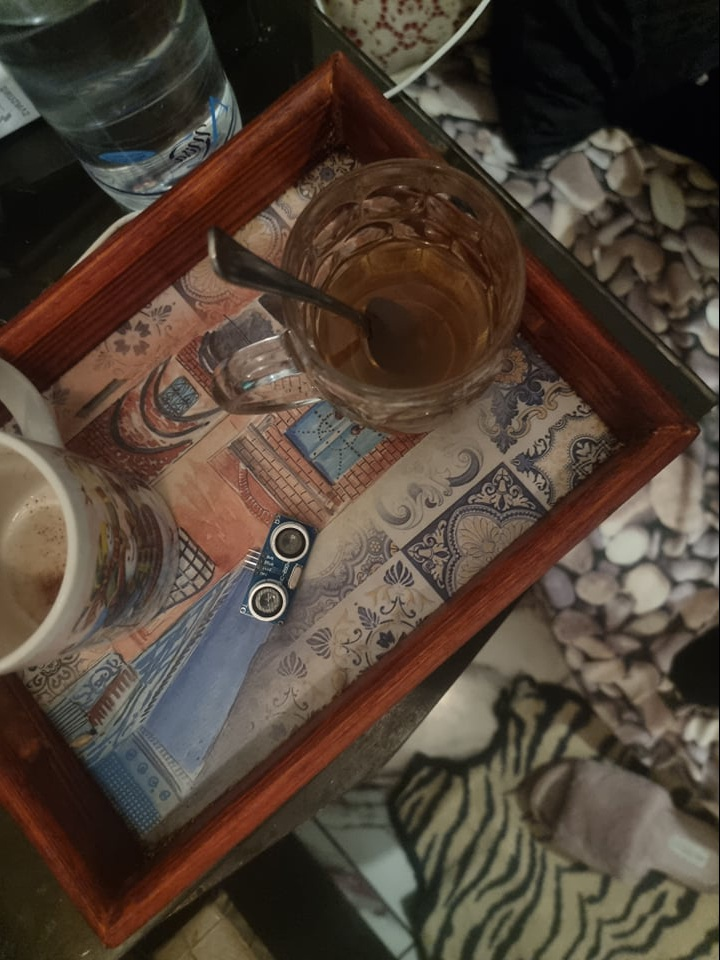SENSOR: (239, 514, 314, 622)
